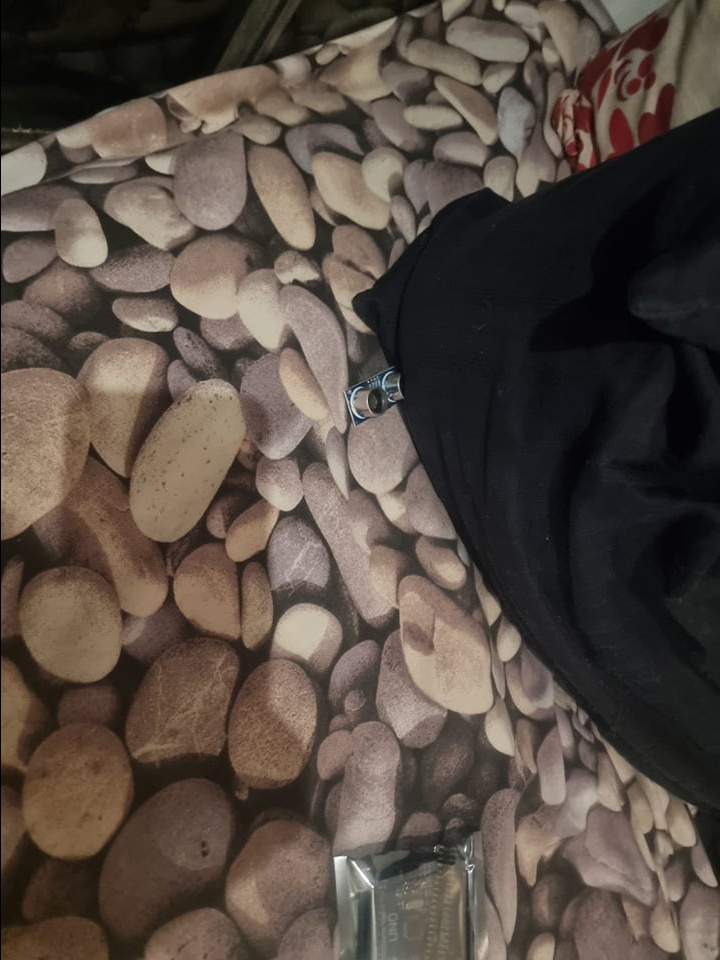SENSOR: (343, 356, 408, 436)
